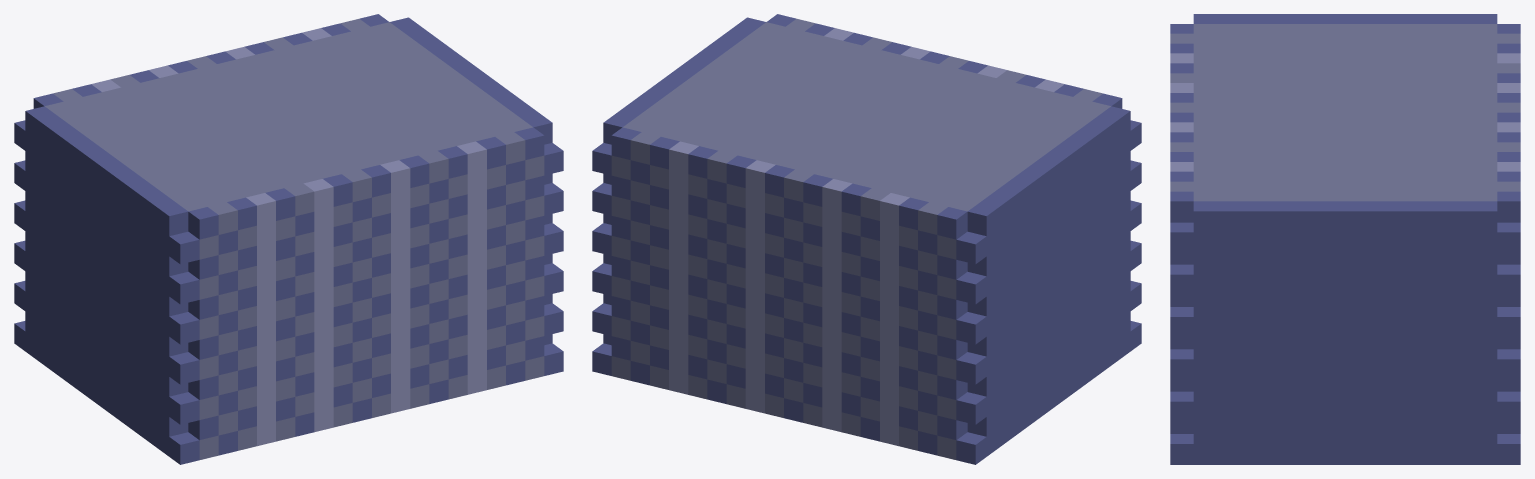
The model's file is torreD_2.obj.
The picture shows the model from 3 angles, left to right: view 1: azimuth 30°, elevation 25°; view 2: azimuth 150°, elevation 25°; view 3: azimuth 270°, elevation 25°; orthographic projection. The views are drawn at different scales.
Bounding box in the file's own units: 2 × 1.2 × 1.5.
